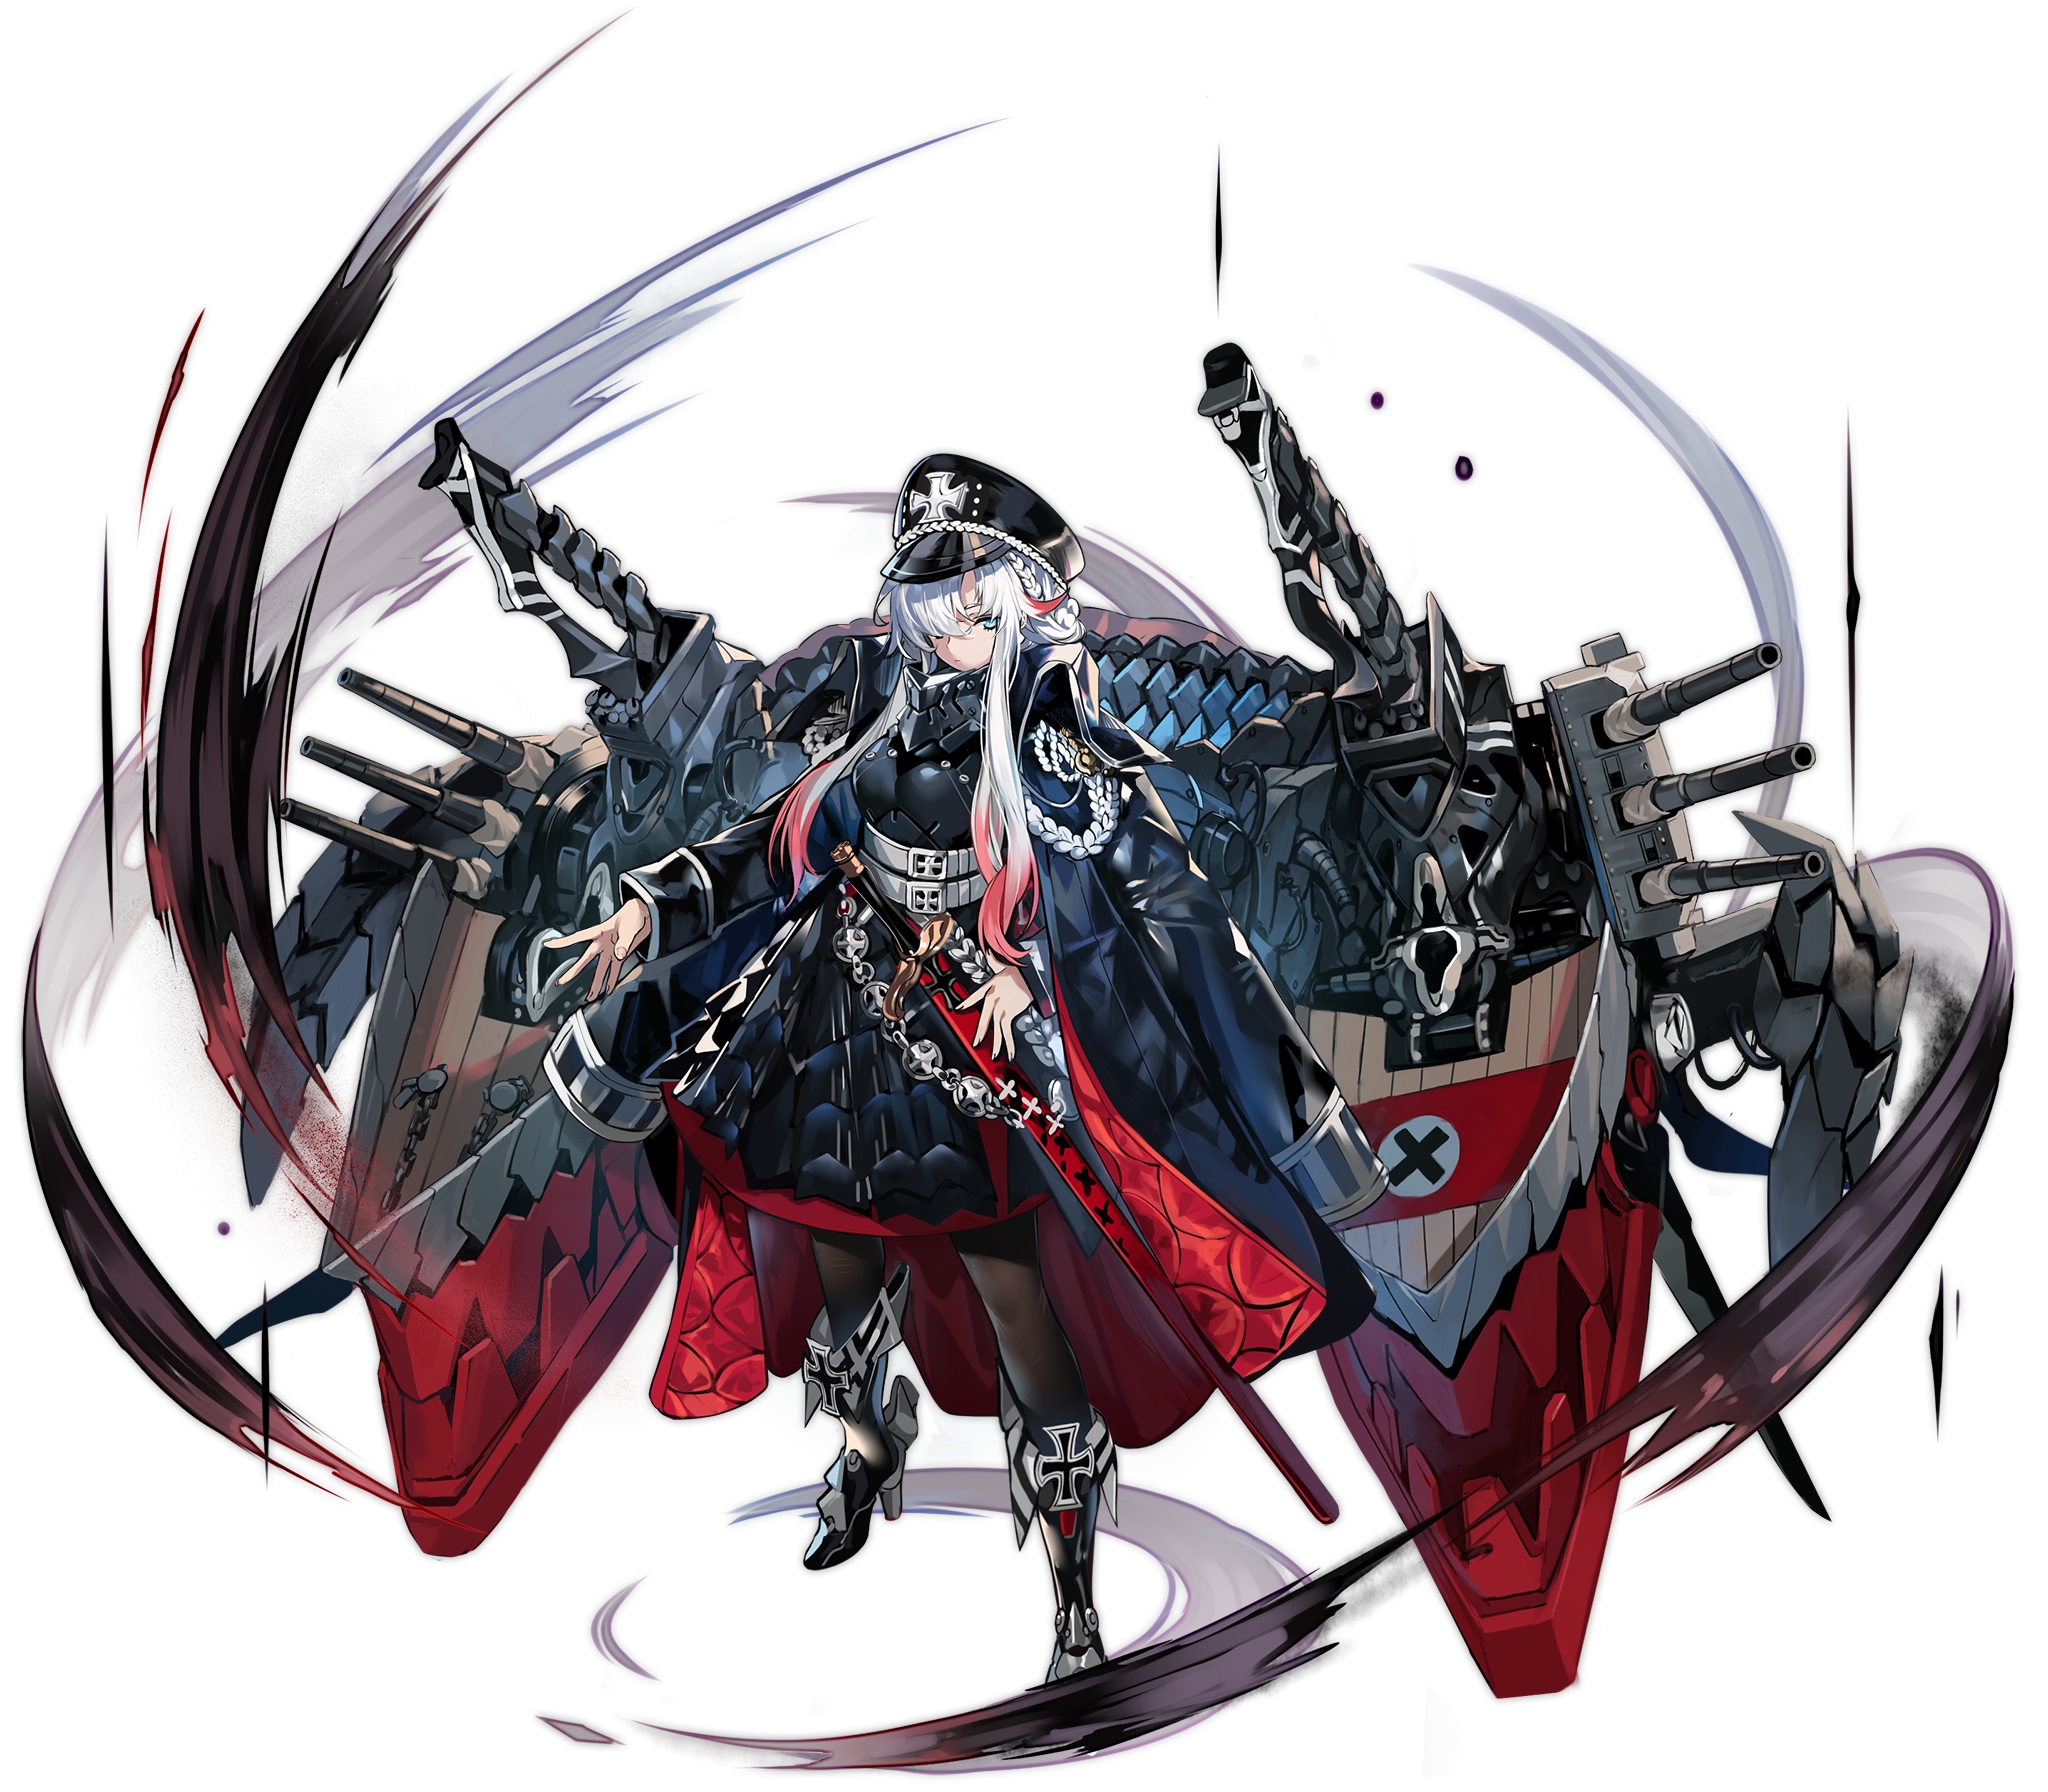person: (660, 453, 1113, 1435)
